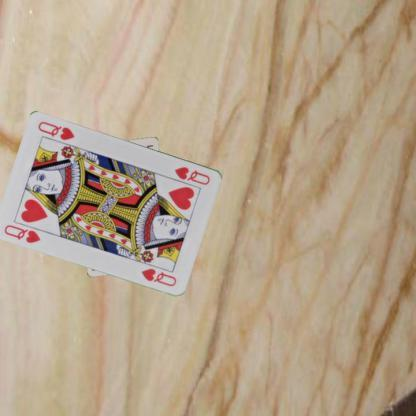Qh: (172, 164, 212, 186), (2, 222, 42, 244)
